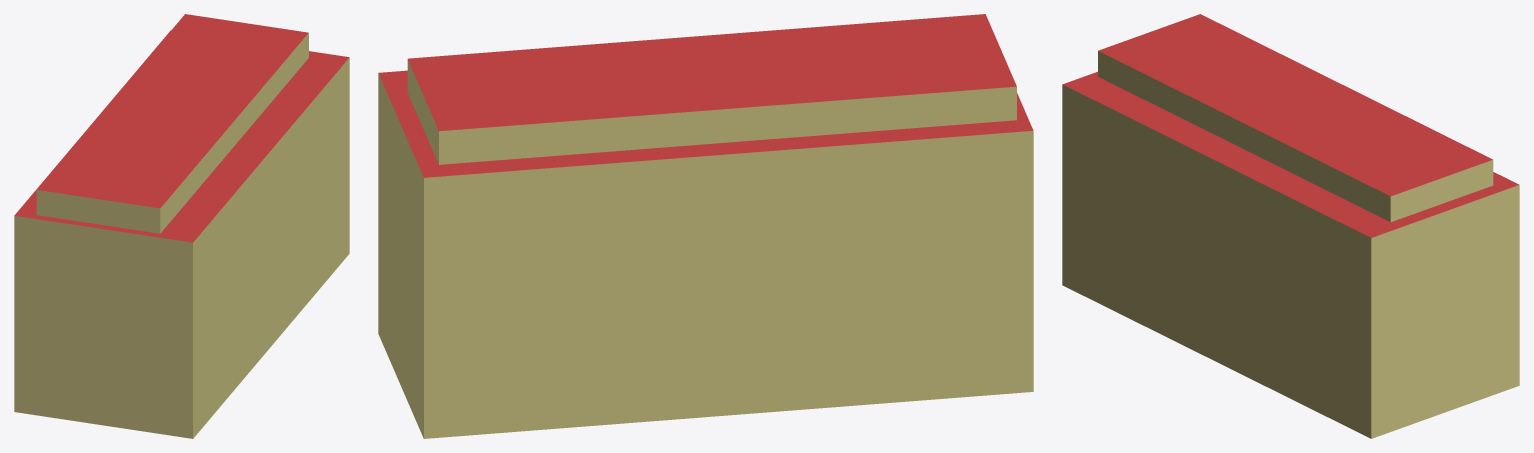
3 views of the same model, side by side, from view 1: azimuth 30°, elevation 25°; view 2: azimuth 150°, elevation 25°; view 3: azimuth 270°, elevation 25° (orthographic). The views are drawn at different scales.
Visible parts, largest first — view 1: group_6, group_4, group_3, group_5; view 2: group_6, group_4, group_5, group_3; view 3: group_6, group_4, group_5, group_3.
Boxes of the visible parts, x1,y1,x2,y2 form: group_6: [14, 58, 349, 438]; group_4: [37, 14, 308, 208]; group_3: [14, 30, 349, 242]; group_5: [36, 33, 308, 233]; group_6: [378, 73, 1033, 438]; group_4: [408, 14, 1016, 131]; group_5: [407, 59, 1016, 164]; group_3: [378, 70, 1033, 177]; group_6: [1062, 84, 1519, 438]; group_4: [1098, 14, 1492, 196]; group_5: [1098, 51, 1493, 222]; group_3: [1063, 71, 1518, 237].
Bounding box in the file's own units: 34.82 × 32.52 × 17.81.
